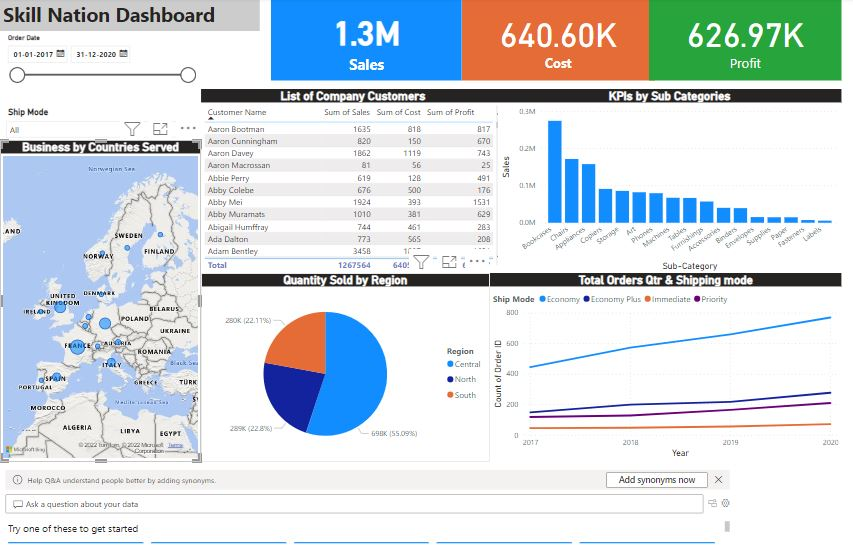

This screenshot's page, from the dashboard's own definition file:
{"tool":"powerbi","page":{"name":"Dahboard","canvas":[1400,900],"ordinal":0},"visuals":[{"type":"card","fields":{"Values":["List of Orders.Sales"]},"box":[443.1,0,312.3,135.4],"z":0},{"type":"tableEx","title":"List of Company Customers","fields":{"Values":["List of Orders.Customer Name","List of Orders.Sales","List of Orders.Cost","List of Orders.Profit"]},"box":[329.2,149.2,496.9,301.5],"z":1000},{"type":"card","fields":{"Values":["List of Orders.Cost"]},"box":[755.4,0,315.4,135.4],"z":2000},{"type":"card","fields":{"Values":["List of Orders.Profit"]},"box":[1061.5,0,315.4,135.4],"z":3000},{"type":"columnChart","title":"KPIs by Sub Categories","fields":{"Category":["List of Orders.Sub-Category"],"Y":["List of Orders.Sales"]},"box":[815.4,149.2,561.5,301.5],"z":4000},{"type":"lineChart","title":"Total Orders Qtr & Shipping mode","fields":{"Y":["List of Orders.Order ID"],"Category":["List of Orders.Order Date.Variation.Date Hierarchy.Year","List of Orders.Order Date.Variation.Date Hierarchy.Quarter","List of Orders.Order Date.Variation.Date Hierarchy.Month","List of Orders.Order Date.Variation.Date Hierarchy.Day"],"Series":["List of Orders.Ship Mode"]},"box":[801.5,450.8,575.4,307.7],"z":5000},{"type":"pieChart","title":"Quantity Sold by Region","fields":{"Y":["List of Orders.Sales"],"Category":["List of Orders.Region"]},"box":[329.2,450.8,472.3,307.7],"z":6000},{"type":"map","title":"Business by Countries Served","fields":{"Category":["List of Orders.Country"],"Size":["List of Orders.Sales"]},"box":[0,232.3,329.2,526.2],"z":7000},{"type":"slicer","fields":{"Values":["List of Orders.Ship Mode"]},"box":[0,173.8,329.2,76.9],"z":8000},{"type":"textbox","box":[0,0,424.6,53.8],"z":9000},{"type":"slicer","fields":{"Values":["List of Orders.Order Date"]},"box":[0,53.8,329.2,120],"z":10000},{"type":"qnaVisual","box":[0,758.5,1203.1,141.5],"z":10001}]}

Visuals, with their boxes on the page's 1400x900 design canvas (x1, y1, x2, y2). These are canvas units, not pixel positions in the 853x547 screenshot, which may show the page scaled, cropped or inside an application window:
card - List of Orders.Sales: crop(443, 0, 755, 135)
"List of Company Customers" tableEx: crop(329, 149, 826, 451)
card - List of Orders.Cost: crop(755, 0, 1071, 135)
card - List of Orders.Profit: crop(1062, 0, 1377, 135)
"KPIs by Sub Categories" columnChart: crop(815, 149, 1377, 451)
"Total Orders Qtr & Shipping mode" lineChart: crop(802, 451, 1377, 758)
"Quantity Sold by Region" pieChart: crop(329, 451, 802, 758)
"Business by Countries Served" map: crop(0, 232, 329, 758)
slicer - List of Orders.Ship Mode: crop(0, 174, 329, 251)
textbox: crop(0, 0, 425, 54)
slicer - List of Orders.Order Date: crop(0, 54, 329, 174)
qnaVisual: crop(0, 758, 1203, 900)
